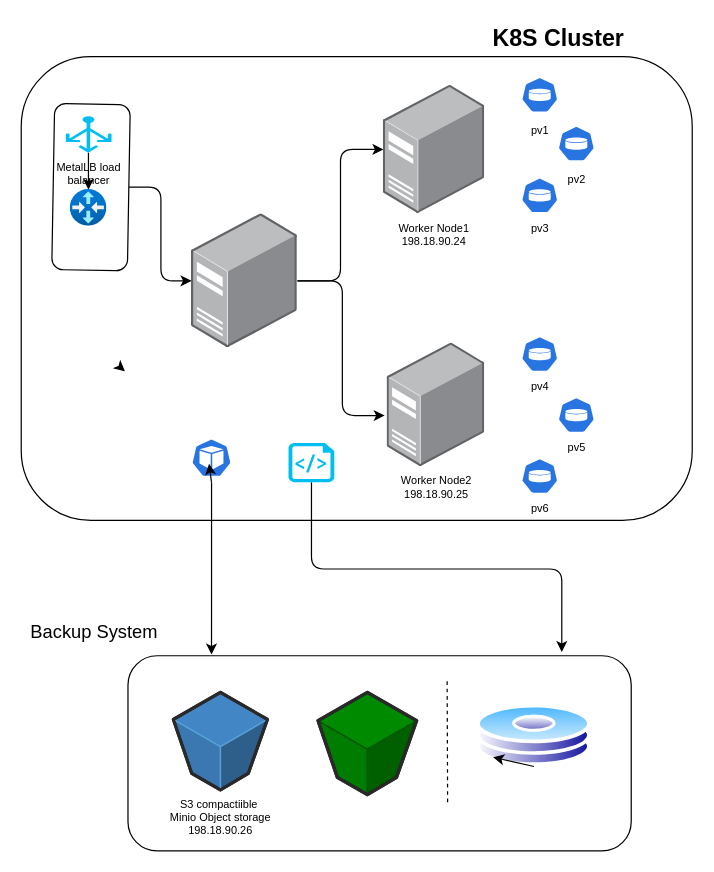
The diagram is 714 pixels wide and 872 high, and some of its shapes have lost their labels. Here are the shapes that lost their labels. From the top down, the centre of each, then its label:
pixel 88 207: Ingress Controller
pixel 244 280: Control-Node 198.18.90.22
pixel 210 457: Velero
pixel 311 462: File system backup
pixel 533 735: Cobra File system backup
